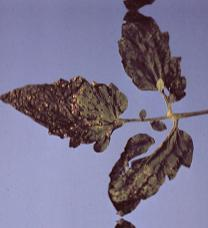Tomato Septoria leaf spot: (0, 74, 130, 158), (106, 122, 198, 213), (112, 11, 191, 108)
